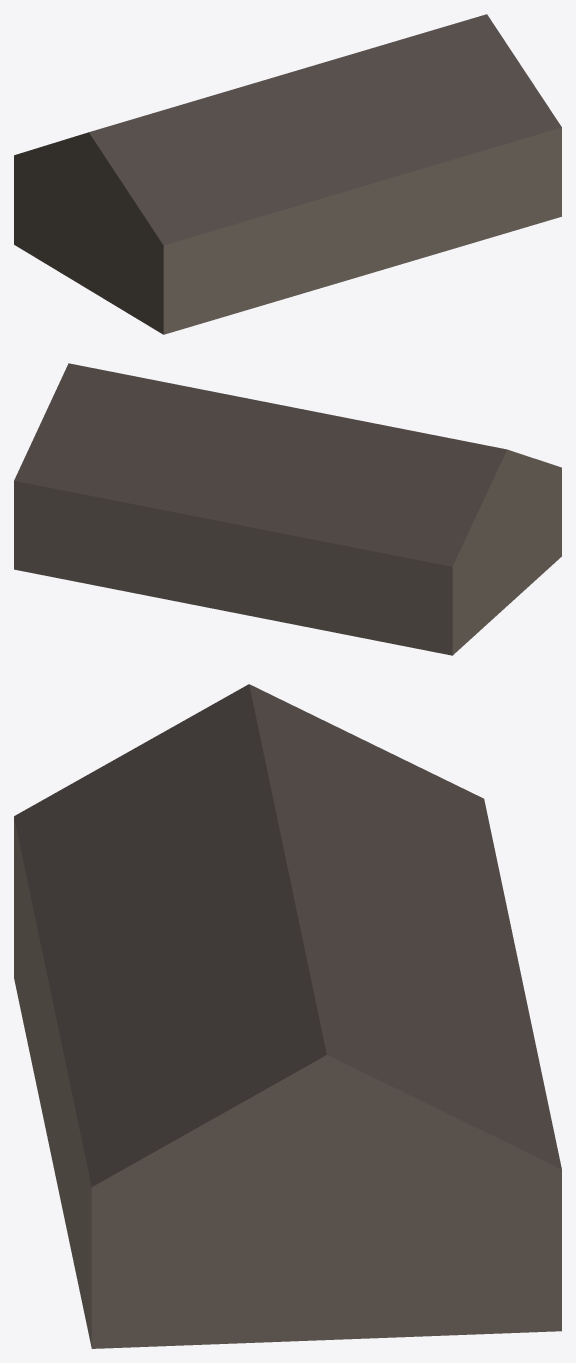
The picture shows the model from 3 angles, top to bottom: view 1: azimuth 30°, elevation 25°; view 2: azimuth 150°, elevation 25°; view 3: azimuth 270°, elevation 25°; orthographic projection. The views are drawn at different scales.
Parts seen in each view (by area): view 1: HP-w408450711; view 2: HP-w408450711; view 3: HP-w408450711.
Boxes of the visible parts, x1,y1,x2,y2 form: HP-w408450711: (14, 14, 561, 334); HP-w408450711: (14, 363, 561, 655); HP-w408450711: (14, 684, 561, 1348).
Size of the model in its own units: 15.46 by 5.29 by 9.21.
